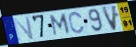7: (31, 14, 46, 40)
9: (88, 8, 105, 33)
C: (68, 10, 86, 34)
M: (50, 13, 72, 37)
N: (12, 15, 35, 43)
V: (100, 4, 118, 32)
